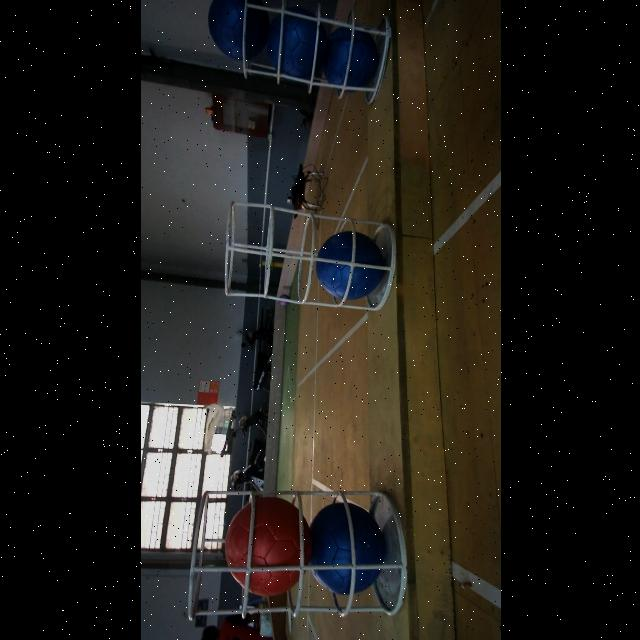B: (304, 496, 388, 598), (312, 228, 394, 300), (260, 1, 328, 85), (316, 20, 382, 88), (202, 0, 264, 60)
R: (222, 490, 316, 596)
